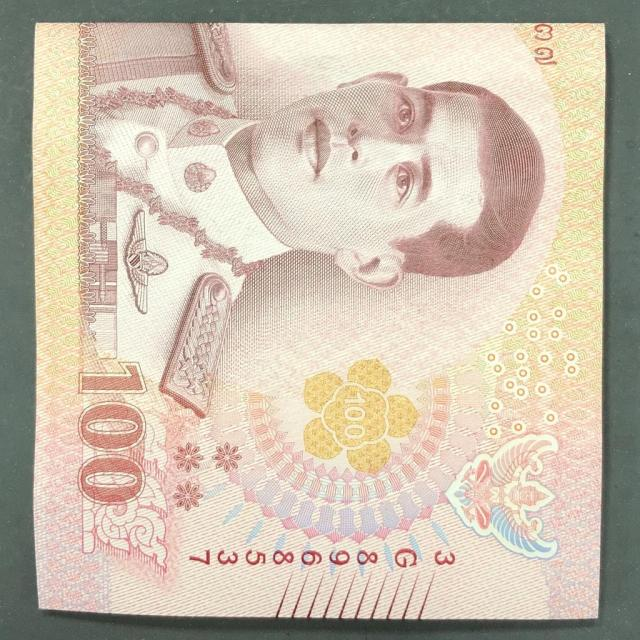THAI100: (33, 24, 604, 619)
